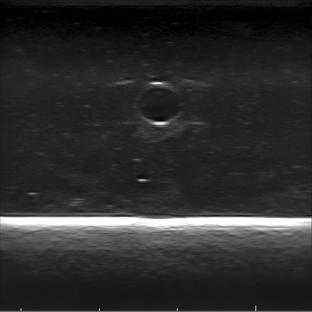vessel: (134, 80, 186, 126)
